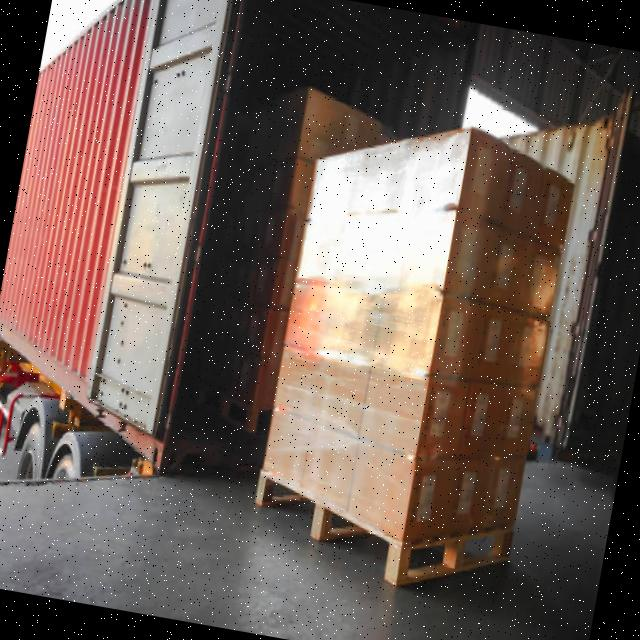Wooden-Pallets: (250, 471, 514, 596)
